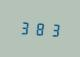eight: (33, 19, 46, 37)
three: (18, 18, 31, 36), (47, 20, 60, 38)
